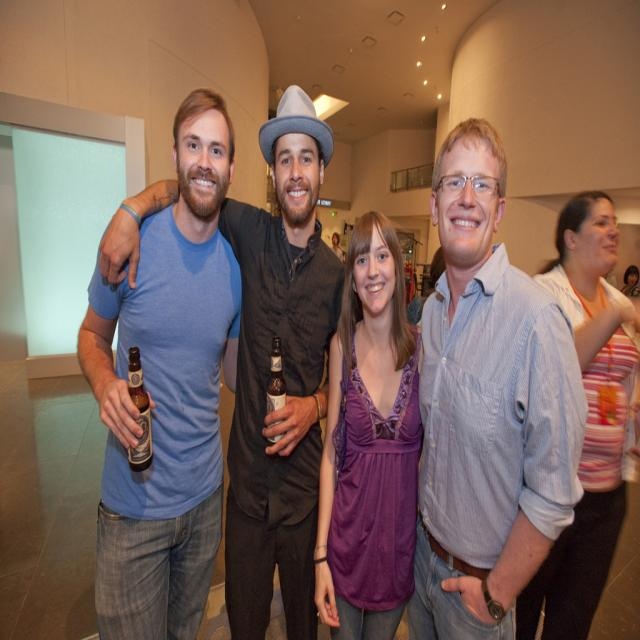Hat: (259, 87, 333, 173)
